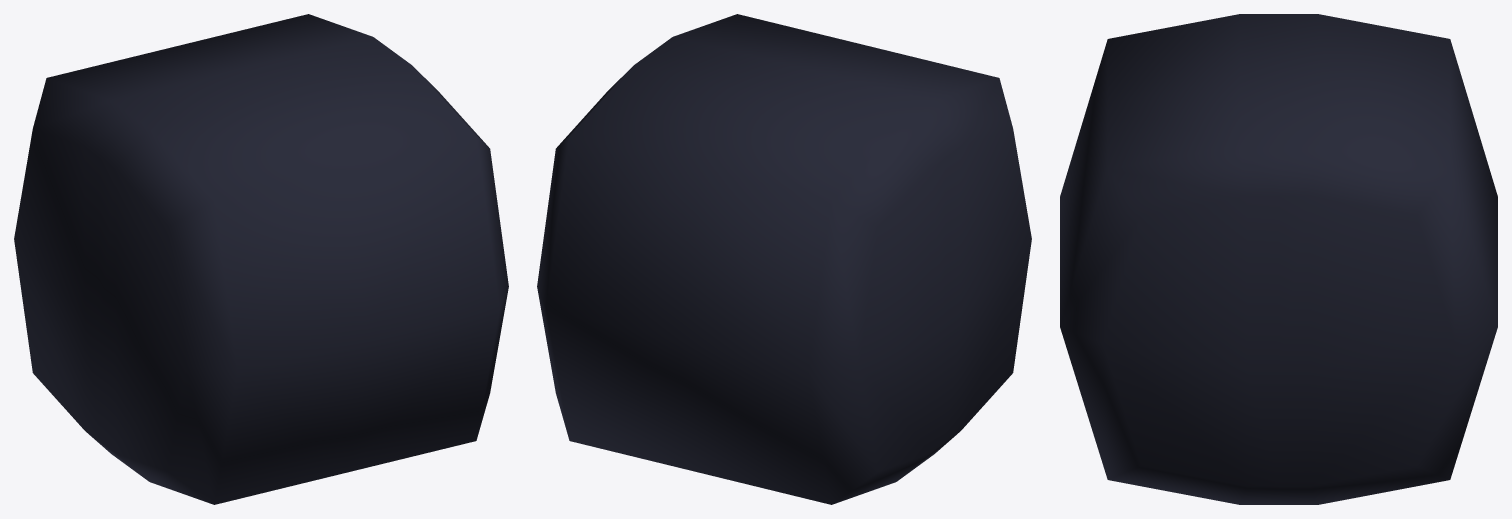
File: cord_stand.fbx
3 views of the same model, side by side, from view 1: azimuth 30°, elevation 25°; view 2: azimuth 150°, elevation 25°; view 3: azimuth 270°, elevation 25° (orthographic). The views are drawn at different scales.
Visible parts, largest first — view 1: cord_stand; view 2: cord_stand; view 3: cord_stand.
Part boxes in pixels (box(x1,y1,x2,y2)): cord_stand: box(14, 14, 508, 504); cord_stand: box(537, 14, 1031, 504); cord_stand: box(1060, 14, 1497, 504).
Size of the model in its own units: 140 by 122 by 127.
